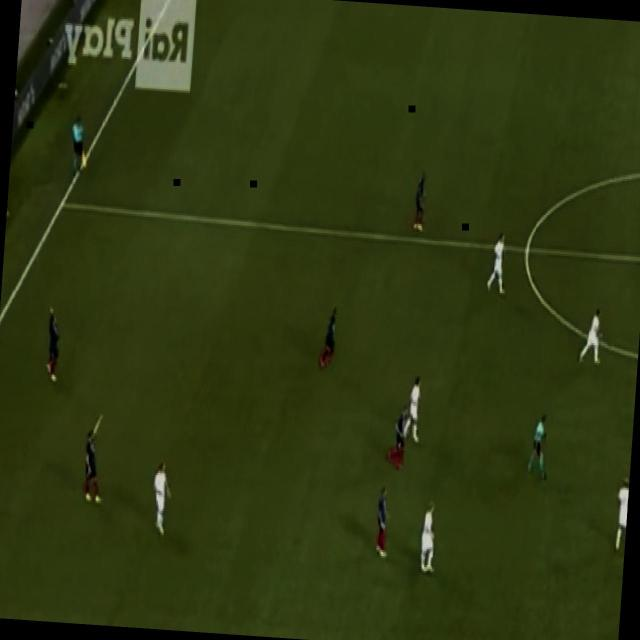ball: (15, 85, 20, 95)
player-white: (81, 412, 109, 504), (149, 457, 175, 539), (525, 411, 553, 483), (384, 401, 410, 473), (577, 306, 605, 369), (418, 499, 440, 575), (43, 306, 64, 384), (373, 484, 393, 560), (404, 374, 424, 448), (68, 115, 90, 181), (613, 475, 630, 557), (488, 231, 510, 293), (320, 306, 340, 372), (411, 168, 430, 234)
